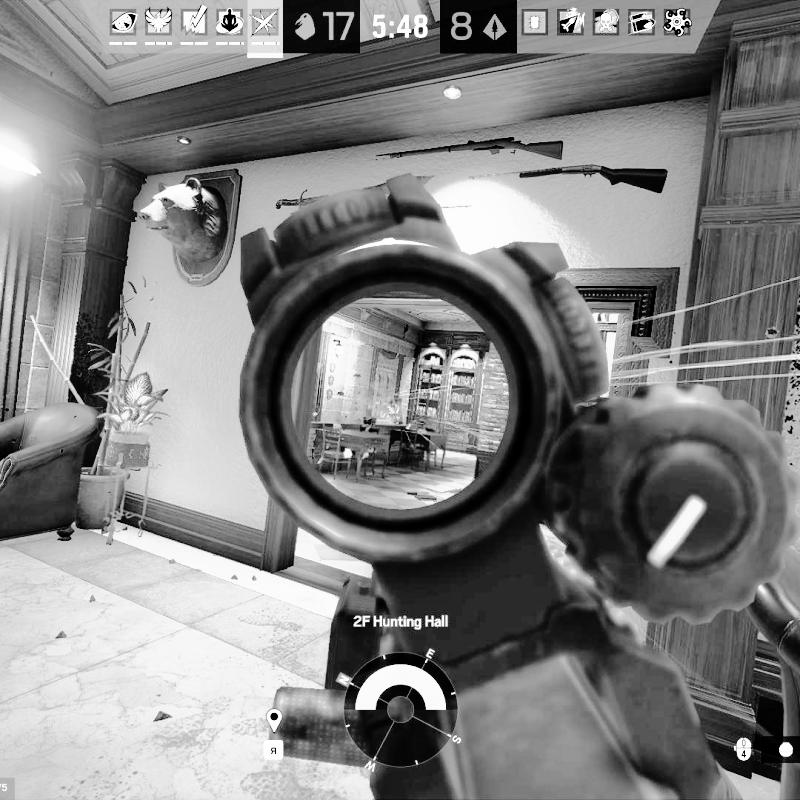Character: (383, 397, 405, 425)
Head: (386, 397, 394, 407)
